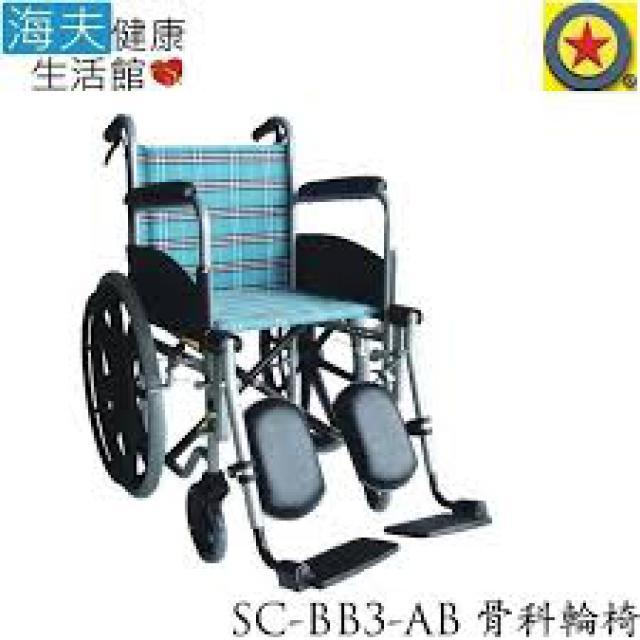wheelchair: (48, 106, 532, 594)
